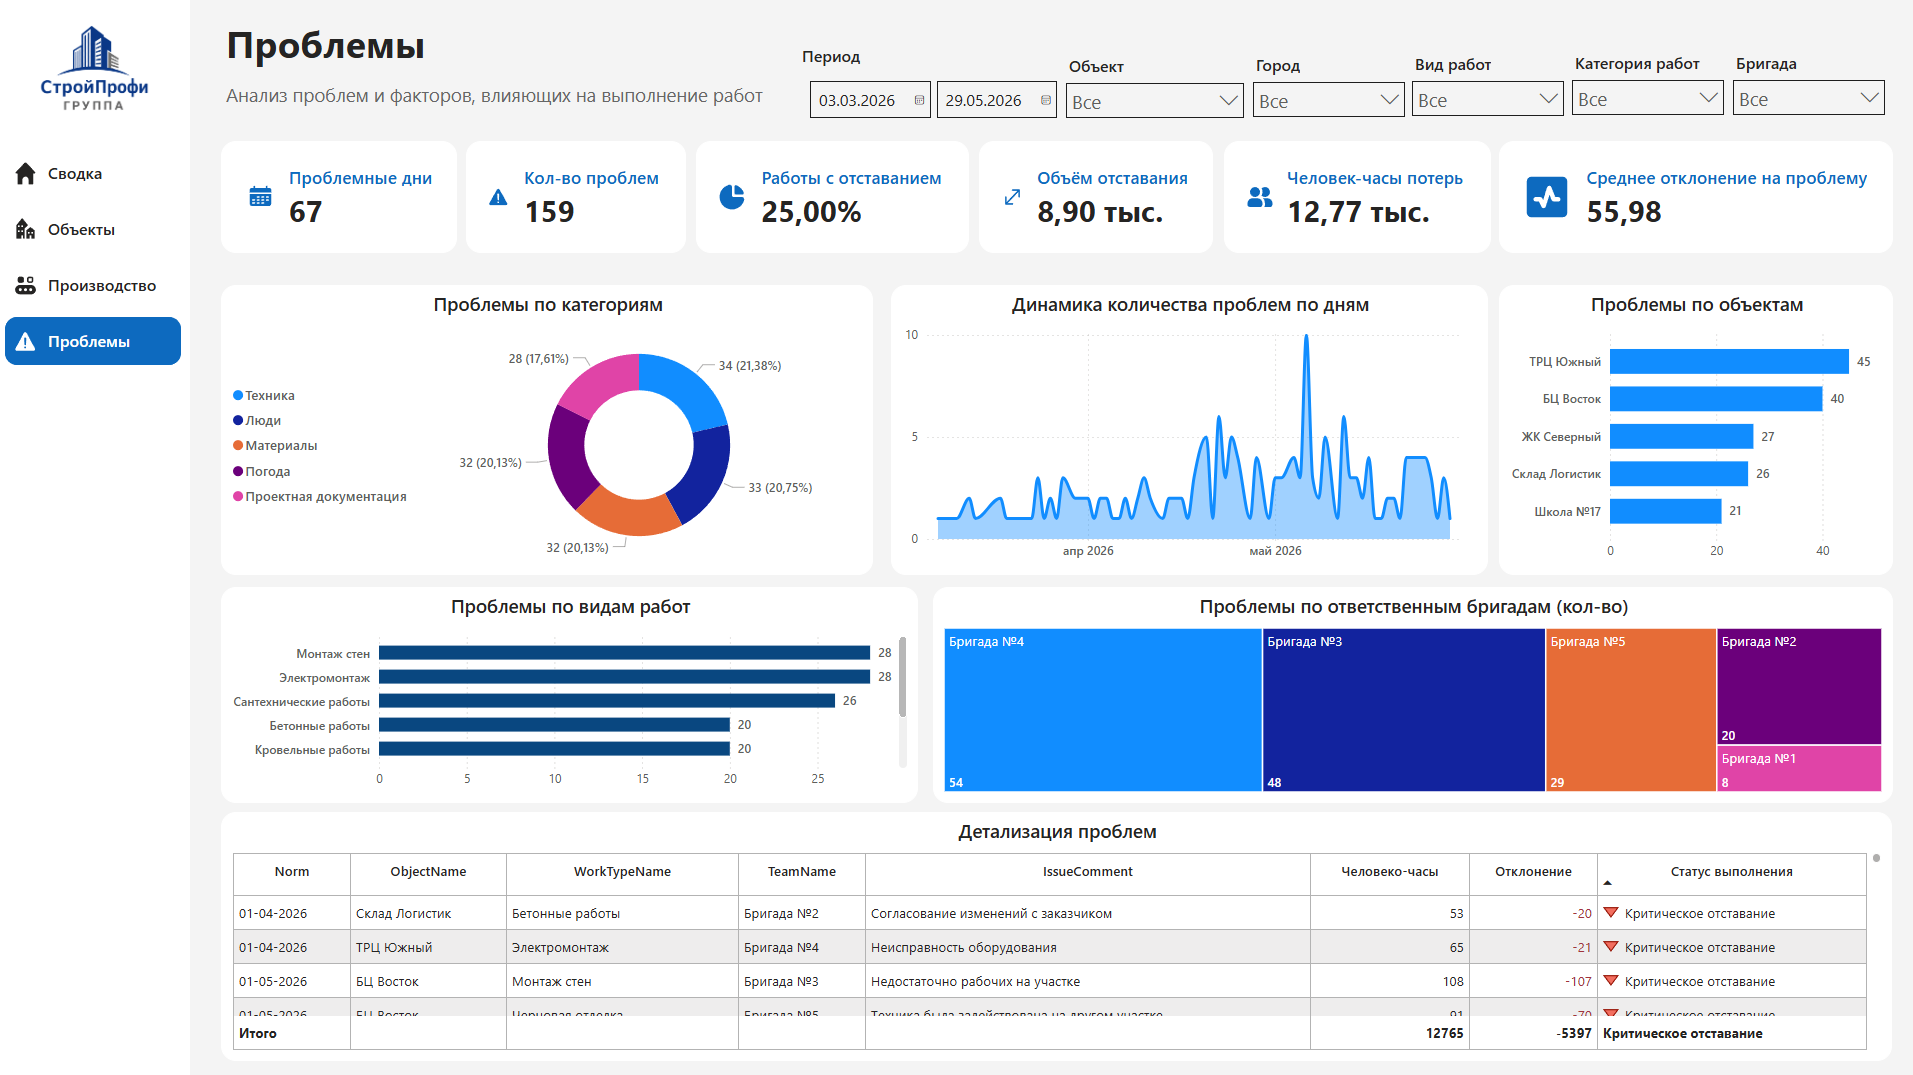

What the dashboard file says about the page in this screenshot:
{"tool":"powerbi","page":{"name":"Проблемы","canvas":[1920,1080],"ordinal":3},"visuals":[{"type":"shape","box":[0,0,192.5,1080],"z":0},{"type":"textbox","box":[46.5,160,82.2,31.1],"z":0,"group":"g1"},{"type":"textbox","box":[46.5,216,82.2,31.1],"z":0,"group":"g2"},{"type":"textbox","box":[46.2,272,121.7,31.2],"z":0,"group":"g3"},{"type":"textbox","box":[46.2,328,121.7,31.2],"z":0,"group":"g4"},{"type":"group","id":"g1","title":"Группа 1","box":[16,160,112,24],"z":1000},{"type":"image","box":[16,163.2,24.9,25.6],"z":1000,"group":"g1"},{"type":"image","box":[16,219.2,24.9,25.6],"z":1000,"group":"g2"},{"type":"image","box":[16,275.4,24.9,25.6],"z":1000,"group":"g3"},{"type":"image","box":[16,331.4,24.9,25.6],"z":1000,"group":"g4"},{"type":"shape","box":[7.8,320,176.1,47.8],"z":2000},{"type":"group","id":"g2","title":"Группа 1","box":[16,216,112,32],"z":3000,"group":"g5"},{"type":"group","id":"g3","title":"Группа 1","box":[16,272,152,32],"z":3000},{"type":"group","id":"g4","title":"Группа 1","box":[16,328,152,32],"z":4000},{"type":"textbox","box":[224,16,1088,64],"z":5000},{"type":"textbox","box":[224.4,80,651.1,40],"z":6000},{"type":"cardVisual","title":"43","fields":{"Data":["Меры.Проблемные дни"]},"box":[224.4,144.4,235.6,111.1],"z":7000},{"type":"cardVisual","title":"43","fields":{"Data":["Меры.Кол-во проблем"]},"box":[468.9,144.4,220,111.1],"z":8000},{"type":"cardVisual","title":"43","fields":{"Data":["Меры.Работы с отставанием, %"]},"box":[698.9,144.4,273.3,111.1],"z":9000},{"type":"cardVisual","title":"43","fields":{"Data":["Меры.Объём отставания"]},"box":[982.2,144.4,233.3,111.1],"z":10000},{"type":"cardVisual","title":"43","fields":{"Data":["Меры.Потери человеко-часов"]},"box":[1226.7,144.4,267.8,111.1],"z":11000},{"type":"cardVisual","title":"43","fields":{"Data":["Меры.Среднее отклонение на проблему"]},"box":[1502.2,144.4,393.3,111.1],"z":12000},{"type":"tableEx","title":"Детализация проблем","fields":{"Values":["Calendar.Norm","DimObjects.ObjectName","DimWorkTypes.WorkTypeName","DimTeams.TeamName","FactWorkLogs.IssueComment","Меры.Человеко-часы","Меры.Отклонение","Меры.Статус выполнения"]},"box":[224,815,1671,249],"z":13000},{"type":"slicer","title":"Период","fields":{"Values":["Calendar.Date"]},"box":[800,48,272,77],"z":14000},{"type":"slicer","title":"Объект","fields":{"Values":["DimObjects.ObjectName"]},"box":[1059,53,198,97],"z":15000},{"type":"slicer","title":"Объект","fields":{"Values":["DimObjects.City"]},"box":[1246,52,172,97],"z":16000},{"type":"image","box":[23,0,146,152],"z":17000},{"type":"group","id":"g5","title":"Группа 2","box":[16,216,112,32],"z":18000},{"type":"clusteredBarChart","title":"Проблемы по объектам","fields":{"Y":["Меры.Кол-во проблем"],"Category":["DimObjects.ObjectName"]},"box":[1502.2,287.8,393.3,290],"z":19000},{"type":"lineChart","title":"Динамика количества проблем по дням","fields":{"Category":["Calendar.Date.Изменение.Иерархия дат.Год"],"Y":["Меры.Кол-во проблем"]},"box":[894.4,287.8,596.7,290],"z":20000},{"type":"slicer","title":"Объект","fields":{"Values":["DimWorkTypes.WorkTypeName"]},"box":[1405,51,172,97],"z":21000},{"type":"slicer","title":"Объект","fields":{"Values":["DimWorkTypes.WorkCategory"]},"box":[1565,50,172,97],"z":22000},{"type":"slicer","title":"Объект","fields":{"Values":["DimTeams.TeamName"]},"box":[1726,50,172,97],"z":23000},{"type":"donutChart","title":"Проблемы по категориям","fields":{"Y":["Меры.Кол-во проблем"],"Category":["FactWorkLogs.IssueCategory"]},"box":[224.4,287.8,651.1,290],"z":24000},{"type":"clusteredBarChart","title":"Проблемы по видам работ","fields":{"Y":["Меры.Кол-во проблем"],"Category":["DimWorkTypes.WorkTypeName"]},"box":[224.4,590,696.7,215.6],"z":25000},{"type":"treemap","title":"Проблемы по ответственным бригадам (кол-во)","fields":{"Values":["Меры.Кол-во проблем"],"Group":["DimTeams.TeamName"]},"box":[935.6,590,960,215.6],"z":26000},{"type":"actionButton","box":[7.9,149.2,175.7,52],"z":26001},{"type":"actionButton","box":[7.9,205.2,175.7,52],"z":26002},{"type":"actionButton","box":[7.9,261.1,175.7,52],"z":26003},{"type":"actionButton","box":[7.9,318,175.7,52],"z":26004}]}

Visuals, with their boxes on the page's 1920x1080 design canvas (x1, y1, x2, y2). These are canvas units, not pixel positions in the 1913x1075 screenshot, which may show the page scaled, cropped or inside an application window:
shape: pyautogui.locateOnScreen(0, 0, 192, 1080)
textbox: pyautogui.locateOnScreen(46, 160, 129, 191)
textbox: pyautogui.locateOnScreen(46, 216, 129, 247)
textbox: pyautogui.locateOnScreen(46, 272, 168, 303)
textbox: pyautogui.locateOnScreen(46, 328, 168, 359)
"Группа 1" group: pyautogui.locateOnScreen(16, 160, 128, 184)
image: pyautogui.locateOnScreen(16, 163, 41, 189)
image: pyautogui.locateOnScreen(16, 219, 41, 245)
image: pyautogui.locateOnScreen(16, 275, 41, 301)
image: pyautogui.locateOnScreen(16, 331, 41, 357)
shape: pyautogui.locateOnScreen(8, 320, 184, 368)
"Группа 1" group: pyautogui.locateOnScreen(16, 216, 128, 248)
"Группа 1" group: pyautogui.locateOnScreen(16, 272, 168, 304)
"Группа 1" group: pyautogui.locateOnScreen(16, 328, 168, 360)
textbox: pyautogui.locateOnScreen(224, 16, 1312, 80)
textbox: pyautogui.locateOnScreen(224, 80, 876, 120)
"43" cardVisual: pyautogui.locateOnScreen(224, 144, 460, 256)
"43" cardVisual: pyautogui.locateOnScreen(469, 144, 689, 256)
"43" cardVisual: pyautogui.locateOnScreen(699, 144, 972, 256)
"43" cardVisual: pyautogui.locateOnScreen(982, 144, 1216, 256)
"43" cardVisual: pyautogui.locateOnScreen(1227, 144, 1494, 256)
"43" cardVisual: pyautogui.locateOnScreen(1502, 144, 1896, 256)
"Детализация проблем" tableEx: pyautogui.locateOnScreen(224, 815, 1895, 1064)
"Период" slicer: pyautogui.locateOnScreen(800, 48, 1072, 125)
"Объект" slicer: pyautogui.locateOnScreen(1059, 53, 1257, 150)
"Объект" slicer: pyautogui.locateOnScreen(1246, 52, 1418, 149)
image: pyautogui.locateOnScreen(23, 0, 169, 152)
"Группа 2" group: pyautogui.locateOnScreen(16, 216, 128, 248)
"Проблемы по объектам" clusteredBarChart: pyautogui.locateOnScreen(1502, 288, 1896, 578)
"Динамика количества проблем по дням" lineChart: pyautogui.locateOnScreen(894, 288, 1491, 578)
"Объект" slicer: pyautogui.locateOnScreen(1405, 51, 1577, 148)
"Объект" slicer: pyautogui.locateOnScreen(1565, 50, 1737, 147)
"Объект" slicer: pyautogui.locateOnScreen(1726, 50, 1898, 147)
"Проблемы по категориям" donutChart: pyautogui.locateOnScreen(224, 288, 876, 578)
"Проблемы по видам работ" clusteredBarChart: pyautogui.locateOnScreen(224, 590, 921, 806)
"Проблемы по ответственным бригадам (кол-во)" treemap: pyautogui.locateOnScreen(936, 590, 1896, 806)
actionButton: pyautogui.locateOnScreen(8, 149, 184, 201)
actionButton: pyautogui.locateOnScreen(8, 205, 184, 257)
actionButton: pyautogui.locateOnScreen(8, 261, 184, 313)
actionButton: pyautogui.locateOnScreen(8, 318, 184, 370)
